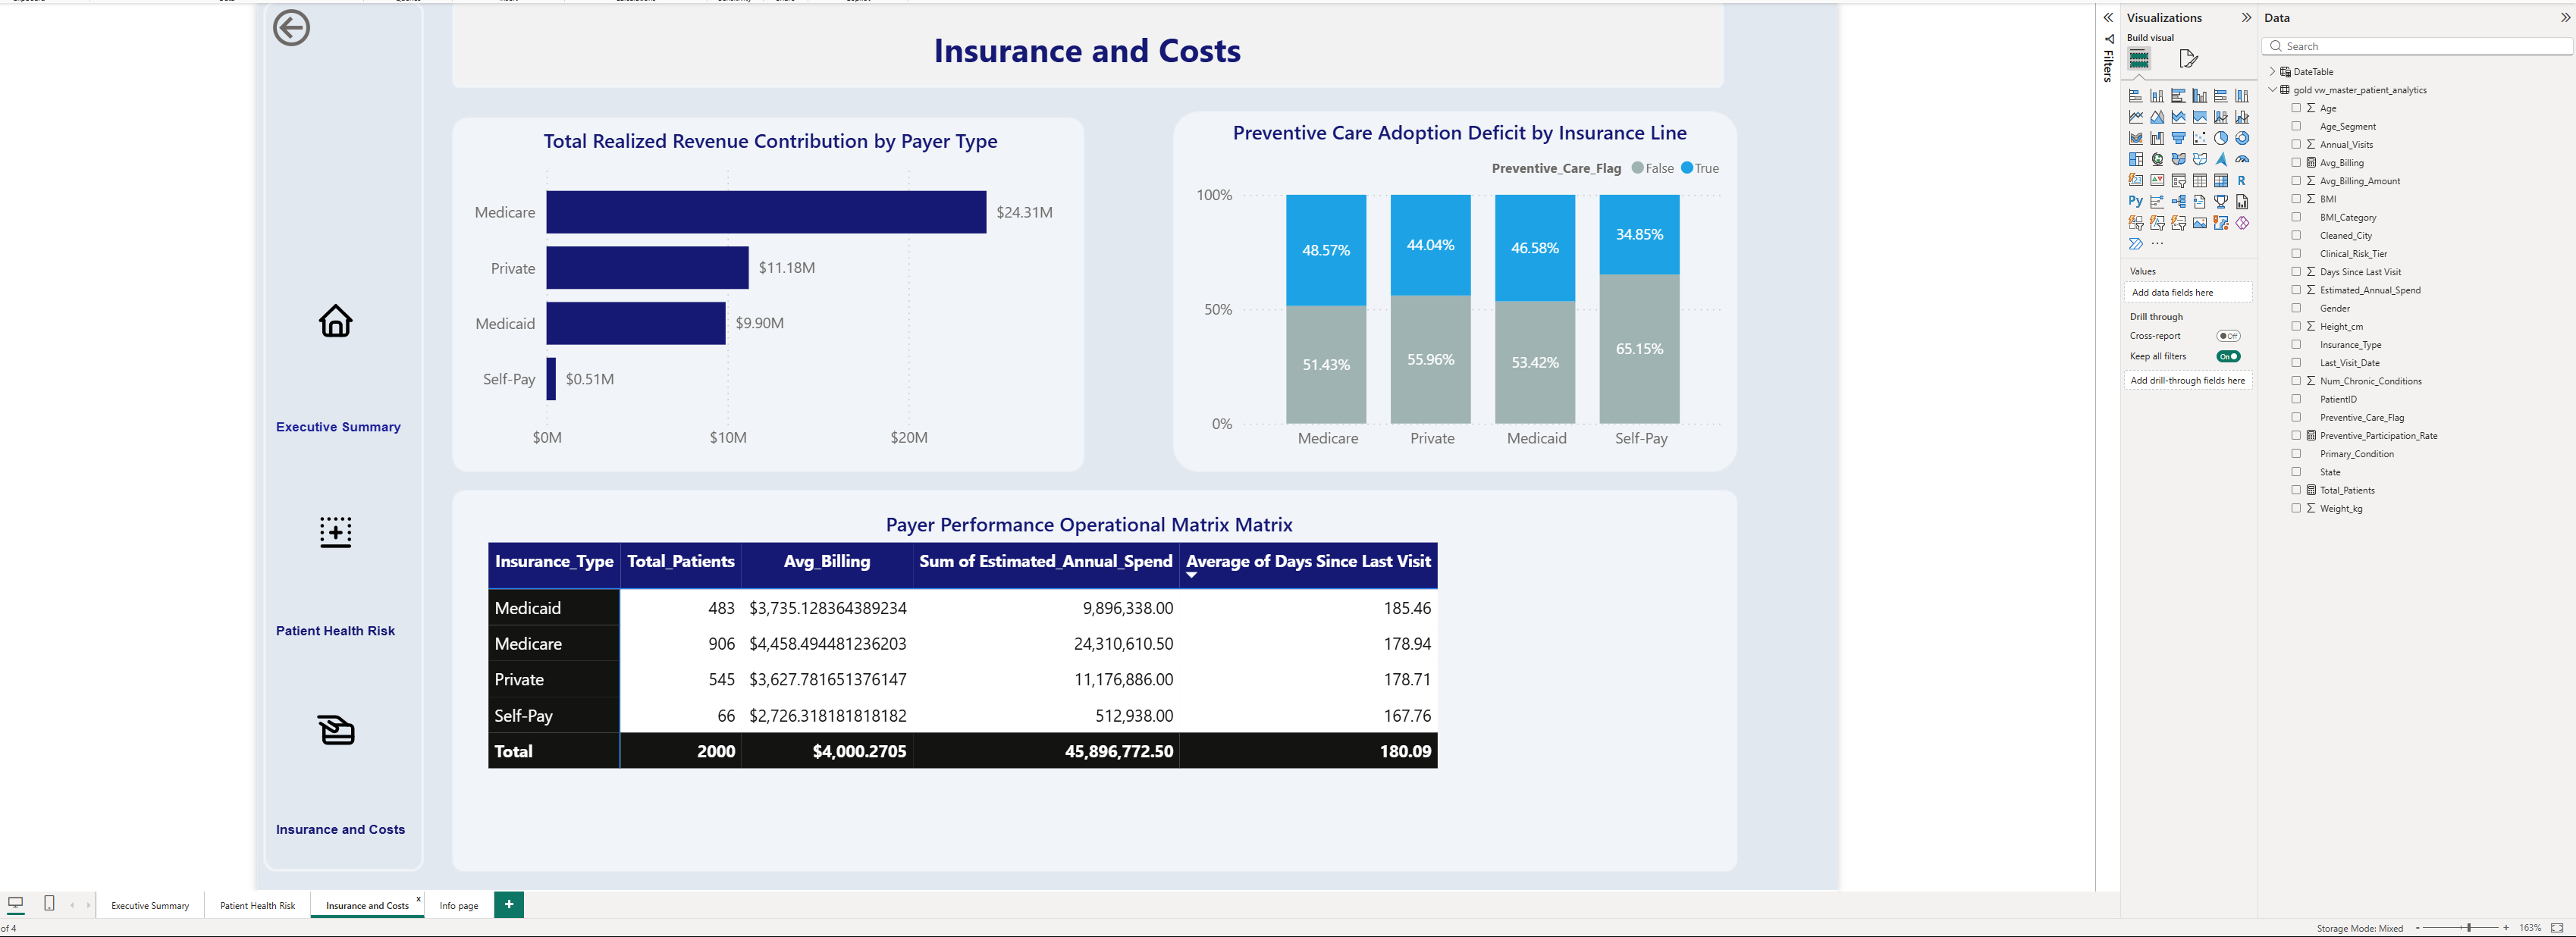

This screenshot's page, from the dashboard's own definition file:
{"tool":"powerbi","page":{"name":"Insurance and Costs","canvas":[1280,720],"ordinal":2},"visuals":[{"type":"clusteredBarChart","title":"Total Realized Revenue Contribution by Payer Type","fields":{"Category":["gold vw_master_patient_analytics.Insurance_Type"],"Y":["Sum(gold vw_master_patient_analytics.Estimated_Annual_Spend)"]},"box":[166.5,100.1,499.5,270.3],"z":0},{"type":"hundredPercentStackedColumnChart","title":"Preventive Care Adoption Deficit by Insurance Line","fields":{"Category":["gold vw_master_patient_analytics.Insurance_Type"],"Y":["CountNonNull(gold vw_master_patient_analytics.PatientID)"],"Series":["gold vw_master_patient_analytics.Preventive_Care_Flag"]},"box":[755,93.4,439.2,277.1],"z":1},{"type":"pivotTable","title":"Payer Performance Operational Matrix Matrix","fields":{"Values":["gold vw_master_patient_analytics.Total_Patients","gold vw_master_patient_analytics.Avg_Billing","Sum(gold vw_master_patient_analytics.Estimated_Annual_Spend)","Avg(gold vw_master_patient_analytics.Days_Since_Last_Visit)"],"Rows":["gold vw_master_patient_analytics.Insurance_Type"]},"box":[182.5,401.2,983.5,280.8],"z":2},{"type":"actionButton","box":[8,0,43,39.9],"z":3},{"type":"textbox","box":[159.1,14.1,1027.2,51],"z":5},{"type":"image","box":[47.3,232.2,32.6,49.8],"z":6},{"type":"image","box":[47.3,411.8,32.6,35],"z":7},{"type":"image","box":[47.3,570,32.6,38.1],"z":8},{"type":"textbox","box":[10.4,328.2,116.1,37.5],"z":9},{"type":"textbox","box":[10.4,493.1,115.5,30.7],"z":10},{"type":"textbox","box":[10.4,654.3,115.5,44.2],"z":11}]}

Visuals, with their boxes on the page's 1280x720 design canvas (x1, y1, x2, y2). These are canvas units, not pixel positions in the 2576x937 screenshot, which may show the page scaled, cropped or inside an application window:
"Total Realized Revenue Contribution by Payer Type" clusteredBarChart: detection(166, 100, 666, 370)
"Preventive Care Adoption Deficit by Insurance Line" hundredPercentStackedColumnChart: detection(755, 93, 1194, 370)
"Payer Performance Operational Matrix Matrix" pivotTable: detection(182, 401, 1166, 682)
actionButton: detection(8, 0, 51, 40)
textbox: detection(159, 14, 1186, 65)
image: detection(47, 232, 80, 282)
image: detection(47, 412, 80, 447)
image: detection(47, 570, 80, 608)
textbox: detection(10, 328, 126, 366)
textbox: detection(10, 493, 126, 524)
textbox: detection(10, 654, 126, 698)
